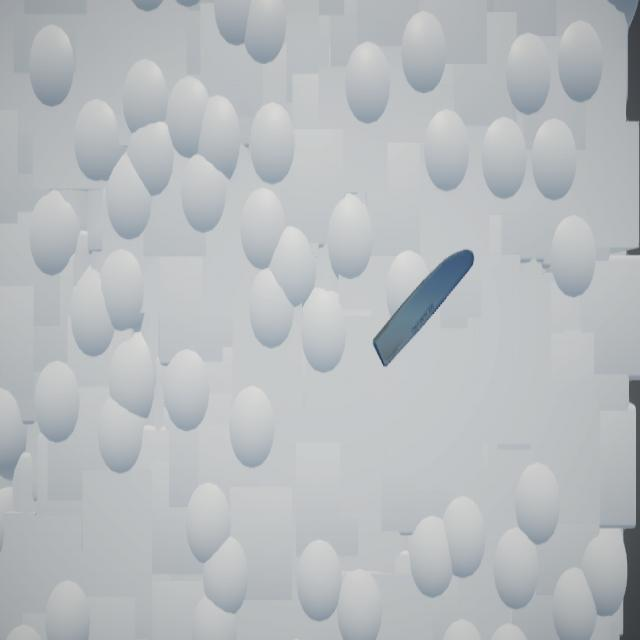top_knife: (373, 250, 476, 368)
